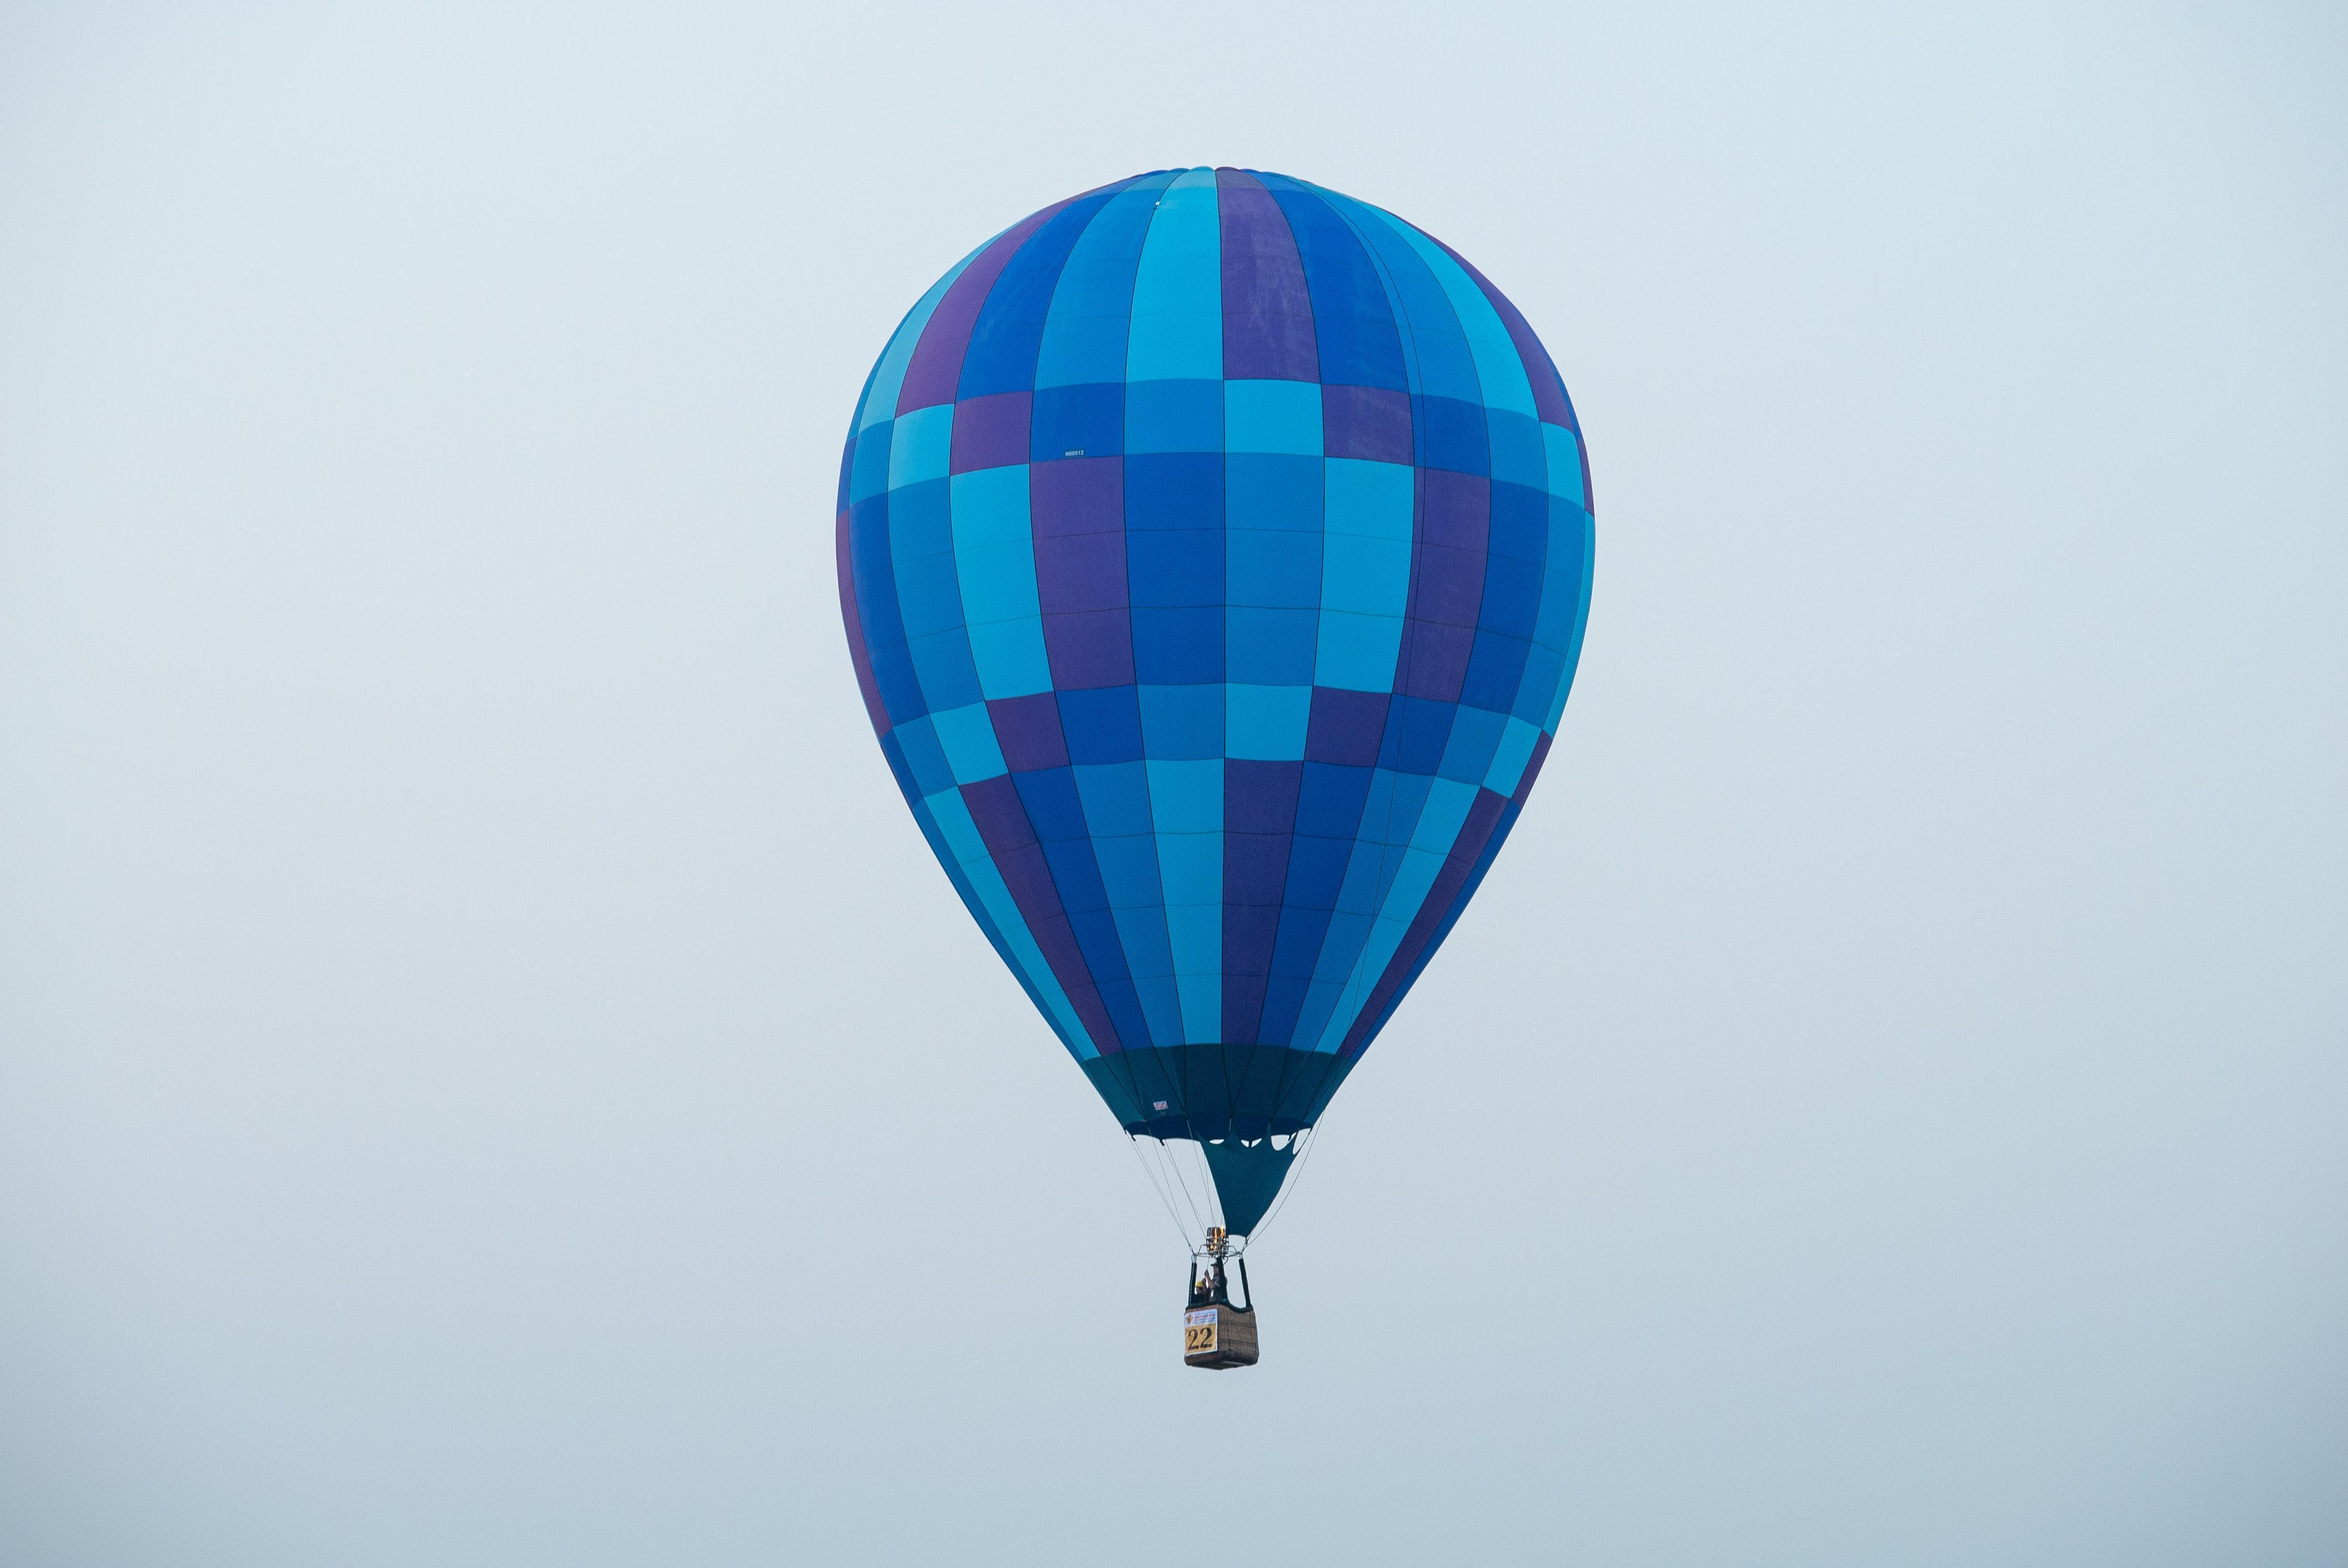hot air ballon: (838, 163, 1601, 1377)
